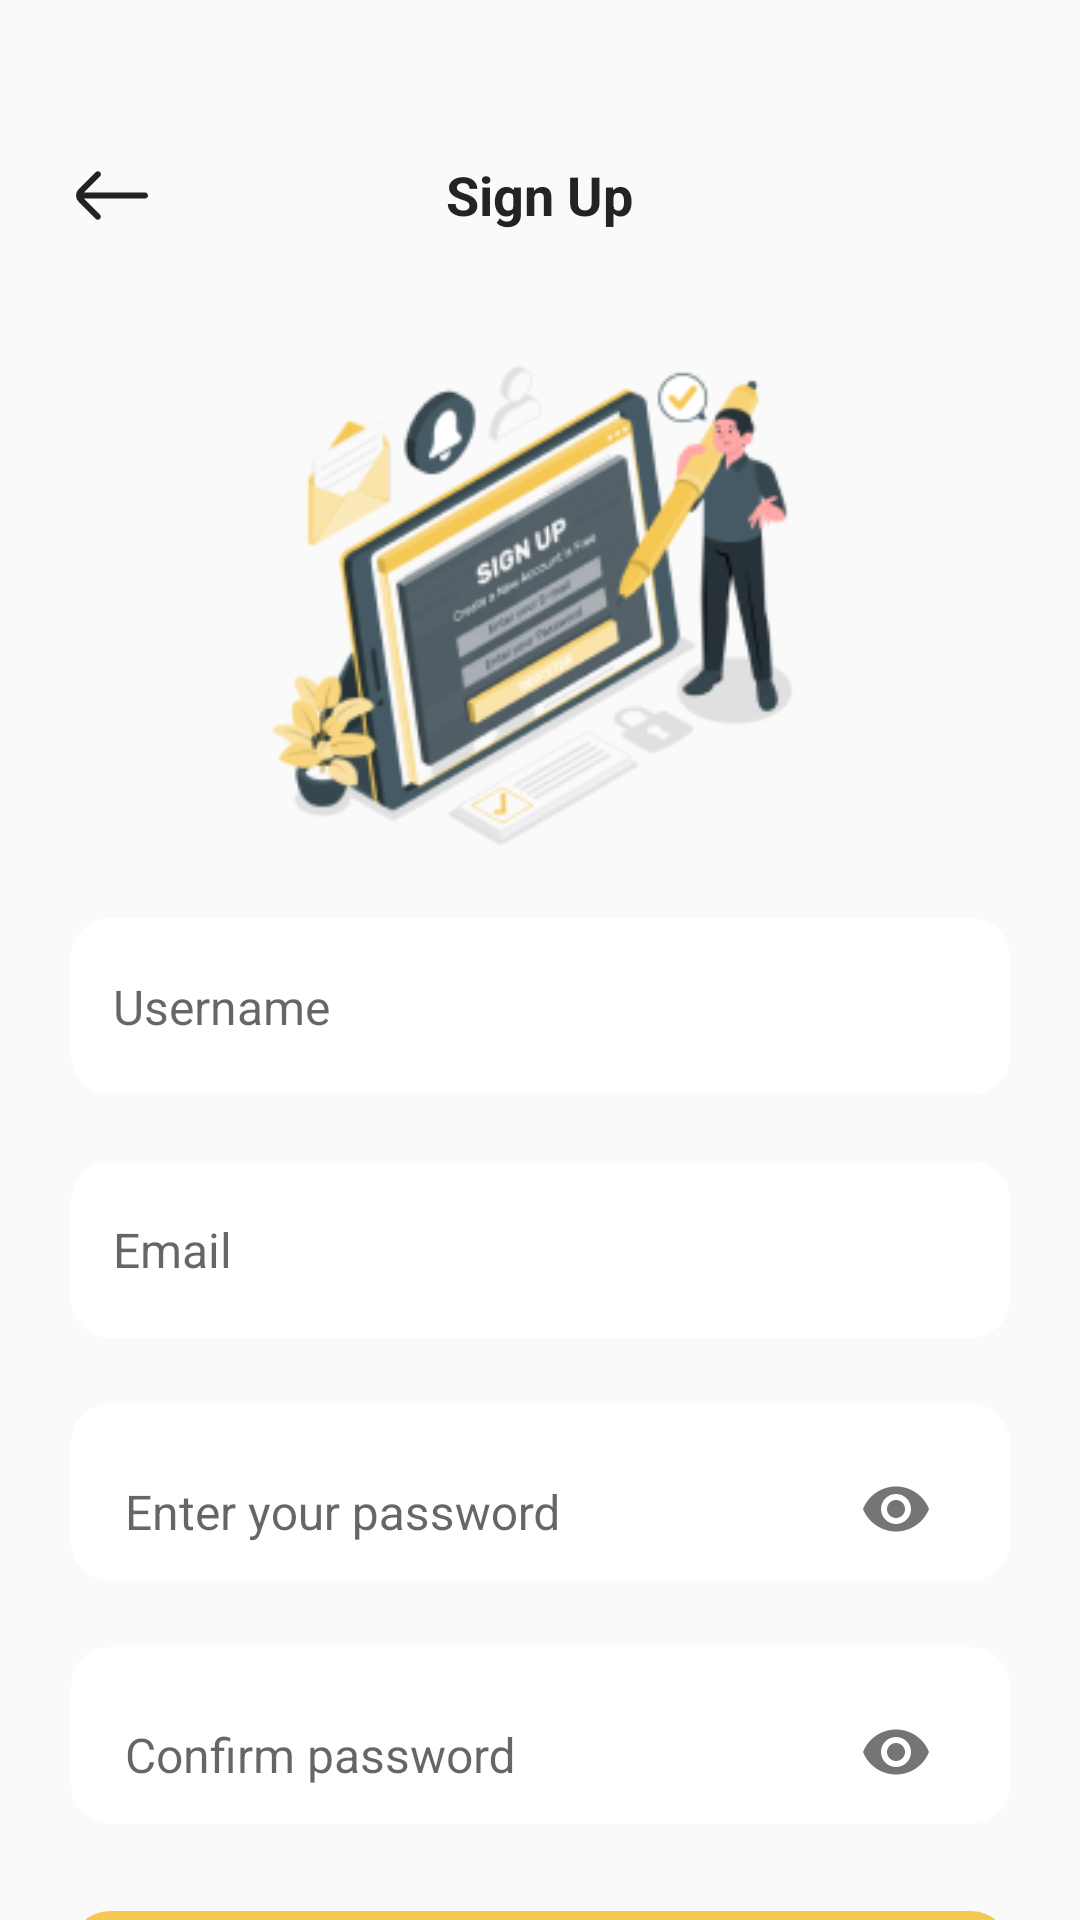

Icons on this 1080w x 1920h Android screen, each with the point to tap as [x,y]:
return: [112,195]
